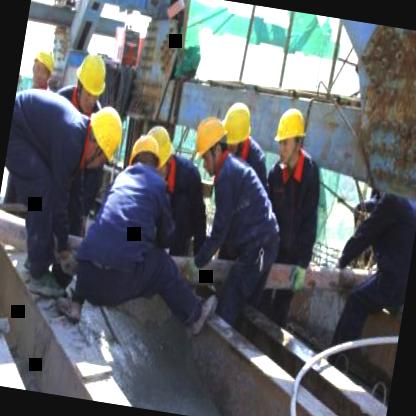helmet: (78, 98, 130, 173), (68, 43, 112, 114), (215, 96, 257, 168), (268, 101, 312, 168), (190, 111, 232, 174), (26, 40, 60, 92), (128, 131, 166, 177), (142, 122, 178, 168)
